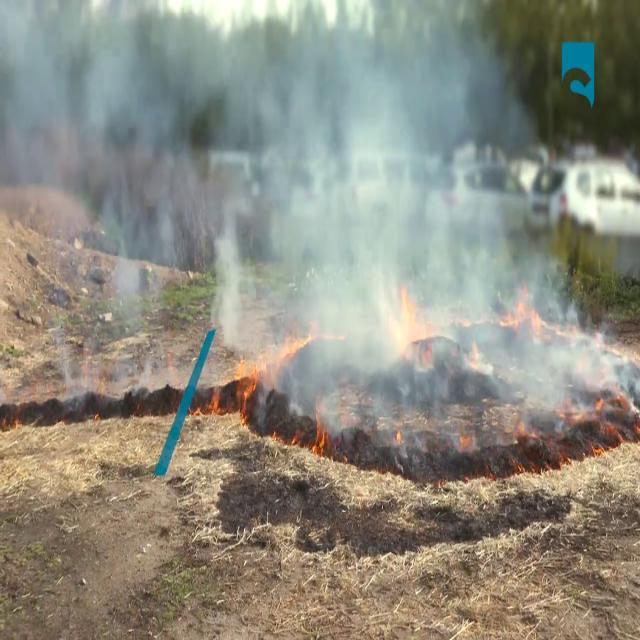Fire: (226, 321, 316, 429)
Smoke: (0, 0, 594, 434)
